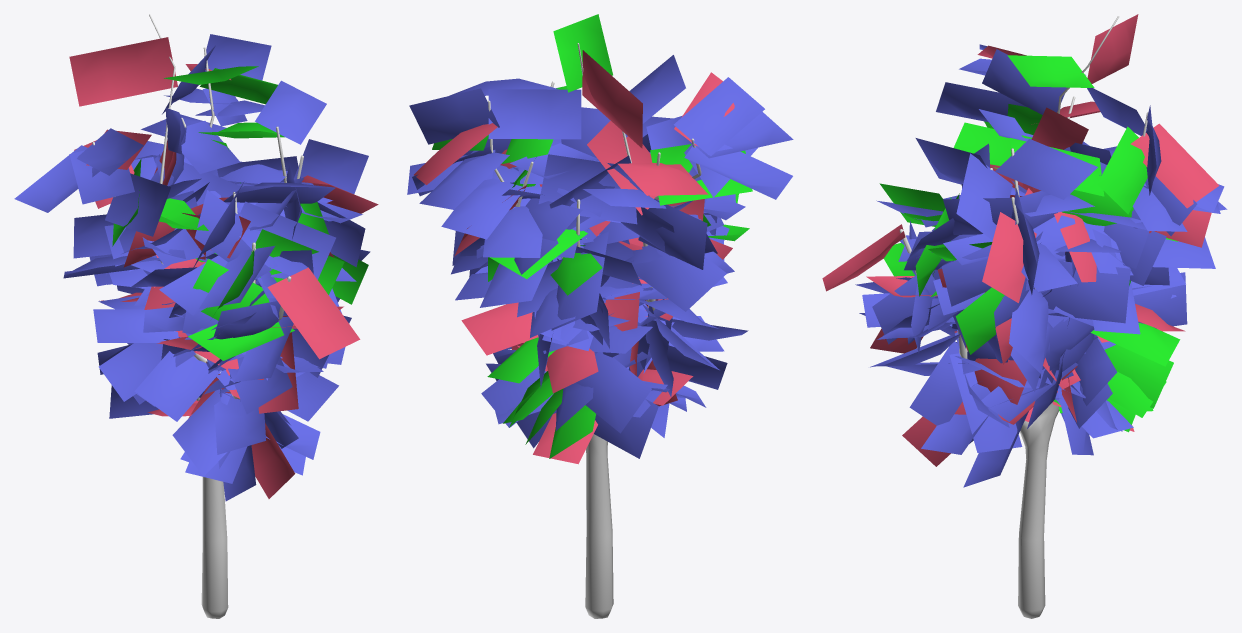
The model's file is Boom6.fbx.
The picture shows the model from 3 angles, left to right: view 1: azimuth 30°, elevation 25°; view 2: azimuth 150°, elevation 25°; view 3: azimuth 270°, elevation 25°; orthographic projection. The views are drawn at different scales.
Visible parts, largest first — view 1: boom2_LOD0; view 2: boom2_LOD0; view 3: boom2_LOD0.
Part boxes in pixels (box(x1,y1,x2,y2)): boom2_LOD0: box(14, 14, 378, 618); boom2_LOD0: box(407, 14, 793, 618); boom2_LOD0: box(822, 14, 1227, 618).
Size of what is drawn, in the model's own units: 1724 by 2801 by 1741.
